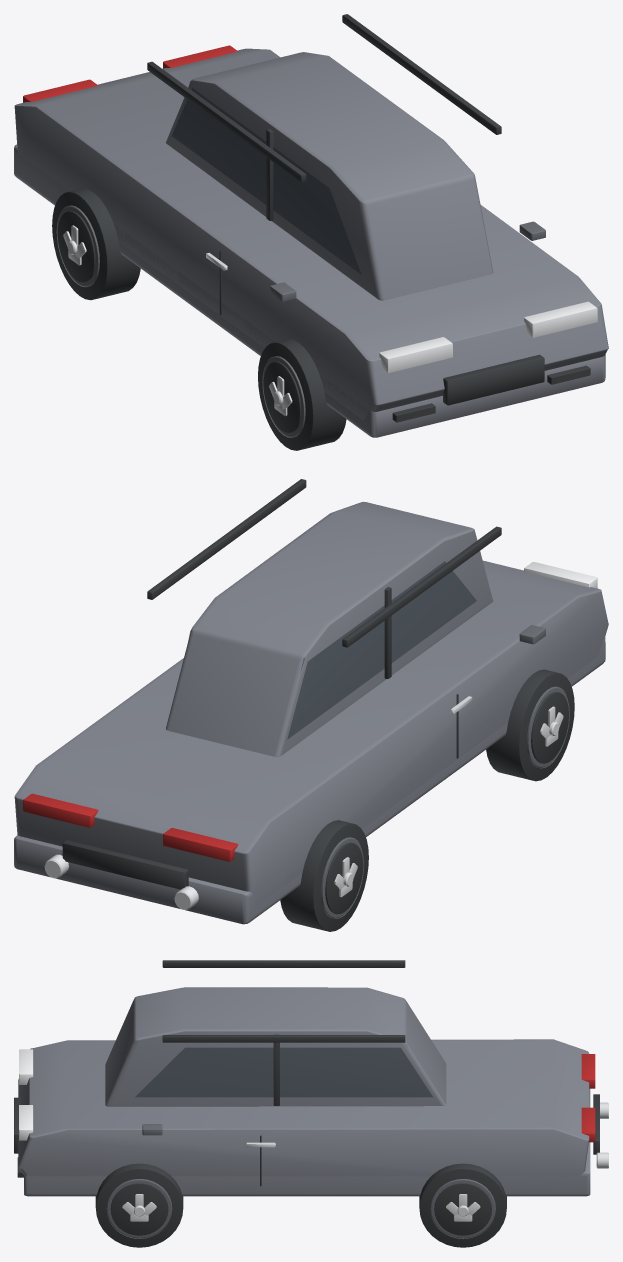
Rendered from vanguard-suv.glb.
3 renders of one model, top to bottom at view 1: azimuth 30°, elevation 25°; view 2: azimuth 150°, elevation 25°; view 3: azimuth 270°, elevation 25°, orthographic. The views are drawn at different scales.
Parts seen in each view (by area): view 1: paint, trim, glass, head, accent, tail, rim; view 2: paint, trim, glass, tail, rim, accent, head; view 3: paint, trim, glass, accent, rim, head, tail.
Part boxes in pixels (x1,y1,x2,y2): paint: (14, 48, 608, 437); trim: (52, 14, 590, 450); glass: (172, 81, 361, 274); head: (379, 301, 597, 372); accent: (56, 205, 545, 437); tail: (23, 45, 237, 102); rim: (63, 225, 292, 416); paint: (14, 501, 608, 924); trim: (62, 479, 574, 931); glass: (187, 561, 476, 739); tail: (23, 793, 238, 861); rim: (44, 696, 563, 909); accent: (321, 625, 569, 918); head: (524, 562, 597, 588); paint: (18, 987, 590, 1196); trim: (14, 960, 599, 1247); glass: (135, 1045, 432, 1097); accent: (106, 1124, 495, 1238); rim: (122, 1102, 608, 1221); head: (19, 1049, 33, 1140); tail: (581, 1054, 595, 1142).
Bounding box in the file's own units: 2.27 × 1.96 × 5.3.
